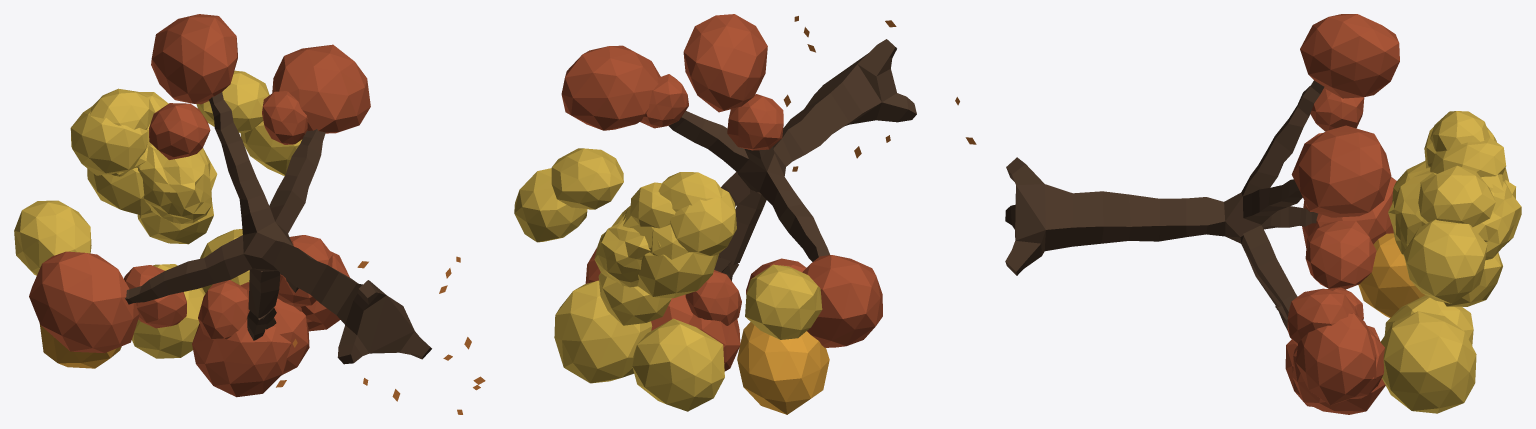
Rendered from TreeOakAutumnD5.fbx.
The picture shows the model from 3 angles, left to right: view 1: azimuth 30°, elevation 25°; view 2: azimuth 150°, elevation 25°; view 3: azimuth 270°, elevation 25°; orthographic projection.
Parts seen in each view (by area): view 1: M_Tree_Leaf_Rust, M_Tree_Leaf_Gold, M_Tree_Bark, M_Tree_Leaf_Amber, M_Tree_Leaf_Orange; view 2: M_Tree_Leaf_Gold, M_Tree_Leaf_Rust, M_Tree_Bark, M_Tree_Leaf_Amber, M_Tree_Leaf_Orange; view 3: M_Tree_Leaf_Rust, M_Tree_Leaf_Gold, M_Tree_Bark, M_Tree_Leaf_Amber.
Part boxes in pixels (x1,y1,x2,y2): M_Tree_Leaf_Rust: [29, 14, 370, 397]; M_Tree_Leaf_Gold: [14, 70, 301, 358]; M_Tree_Bark: [125, 92, 431, 364]; M_Tree_Leaf_Amber: [39, 323, 121, 368]; M_Tree_Leaf_Orange: [276, 256, 485, 414]; M_Tree_Leaf_Gold: [514, 148, 822, 411]; M_Tree_Leaf_Rust: [561, 14, 882, 371]; M_Tree_Bark: [668, 39, 916, 280]; M_Tree_Leaf_Amber: [737, 322, 829, 414]; M_Tree_Leaf_Orange: [783, 16, 976, 171]; M_Tree_Leaf_Rust: [1285, 14, 1399, 414]; M_Tree_Leaf_Gold: [1381, 111, 1521, 413]; M_Tree_Bark: [1005, 80, 1324, 330]; M_Tree_Leaf_Amber: [1358, 233, 1425, 317].
Size of the model in its own units: 27.62 by 31.01 by 38.77.
